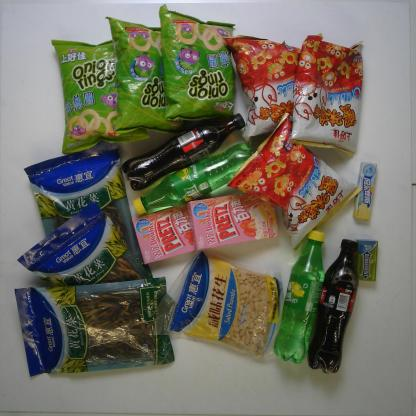Candy: (349, 164, 377, 224)
Dessert: (131, 196, 227, 264), (188, 187, 277, 251)
Dried Food: (16, 202, 161, 355), (12, 276, 178, 378), (23, 145, 140, 270)
Dried Fruit: (156, 247, 284, 358)
Drink: (120, 113, 245, 189), (133, 140, 256, 215), (272, 227, 326, 364), (306, 238, 359, 376)
Gum: (352, 238, 380, 284)
Puffed Food: (227, 114, 357, 250), (50, 36, 148, 156), (285, 32, 366, 156), (106, 15, 188, 137), (157, 2, 239, 120), (225, 31, 306, 143)
